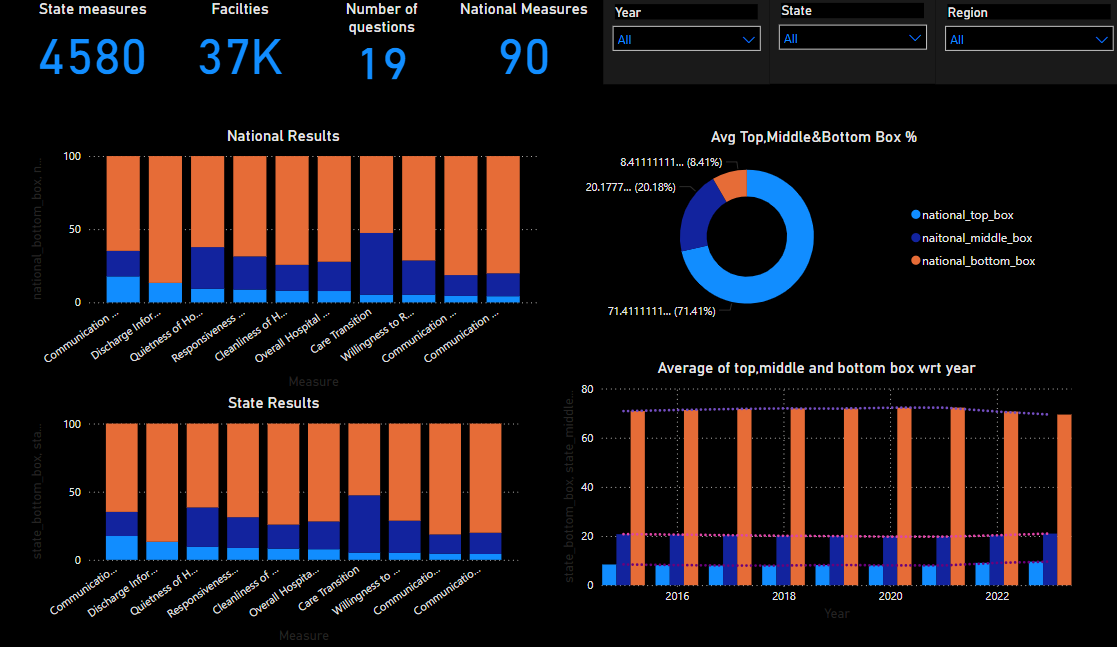

This screenshot's page, from the dashboard's own definition file:
{"tool":"powerbi","page":{"name":"Reports","canvas":[1280,720],"ordinal":0},"visuals":[{"type":"card","title":"State measures ","fields":{"Values":["DAX (2).measure_state"]},"box":[74.1,9.6,149.6,91.9],"z":0},{"type":"slicer","fields":{"Values":["states.State"]},"box":[892.5,8.8,182.5,93.8],"z":1000},{"type":"slicer","fields":{"Values":["Regions.Region"]},"box":[1075,10,205,92.5],"z":2000},{"type":"slicer","fields":{"Values":["reports.Year"]},"box":[710,10,182.5,92.5],"z":3000},{"type":"card","title":"Facilties","fields":{"Values":["DAX (2).facilities"]},"box":[223.7,9.6,174.3,91.9],"z":4000},{"type":"card","title":"Number of questions","fields":{"Values":["DAX (2).question"]},"box":[397.8,10,136.7,92.2],"z":5000},{"type":"card","title":"National Measures","fields":{"Values":["DAX (2).measure_national"]},"box":[545.6,10,152.2,92.2],"z":6000},{"type":"donutChart","title":"Avg Top,Middle&Bottom Box %","fields":{"Y":["DAX (2).national_top_box","DAX (2).naitonal_middle_box","DAX (2).national_bottom_box"]},"box":[683.6,149.2,514.8,221.3],"z":7000},{"type":"columnChart","title":"National Results","fields":{"Category":["measures (2).Measure"],"Y":["DAX (2).national_bottom_box","DAX (2).naitonal_middle_box","DAX (2).national_top_box"]},"box":[74.1,148.2,568.1,293.7],"z":8000},{"type":"columnChart","title":"State Results","fields":{"Category":["measures (2).Measure"],"Y":["DAX (2).state_bottom_box","DAX (2).state_middle_box","DAX (2).state_top_box"]},"box":[74.3,441.4,547.1,278.6],"z":9000},{"type":"lineClusteredColumnComboChart","title":"Average of top,middle and bottom box wrt year","fields":{"Category":["reports.Year"],"Y":["dax measures.state_bottom_box","dax measures.state_middle_box","dax measures.state_top_box"],"Y2":["dax measures.state_bottom_box","dax measures.state_middle_box","dax measures.state_top_box"]},"box":[658.6,402.9,570,292.9],"z":10000}]}

Visuals, with their boxes in screenshot pixels (x1, y1, x2, y2), scaled from the page's 1280x720 canvas onto the 1117x647 screenshot:
"State measures " card: box=[65, 9, 195, 91]
slicer - states.State: box=[779, 8, 938, 92]
slicer - Regions.Region: box=[938, 9, 1116, 92]
slicer - reports.Year: box=[620, 9, 779, 92]
"Facilties" card: box=[195, 9, 347, 91]
"Number of questions" card: box=[347, 9, 466, 92]
"National Measures" card: box=[476, 9, 609, 92]
"Avg Top,Middle&Bottom Box %" donutChart: box=[597, 134, 1046, 333]
"National Results" columnChart: box=[65, 133, 560, 397]
"State Results" columnChart: box=[65, 397, 542, 646]
"Average of top,middle and bottom box wrt year" lineClusteredColumnComboChart: box=[575, 362, 1072, 625]
